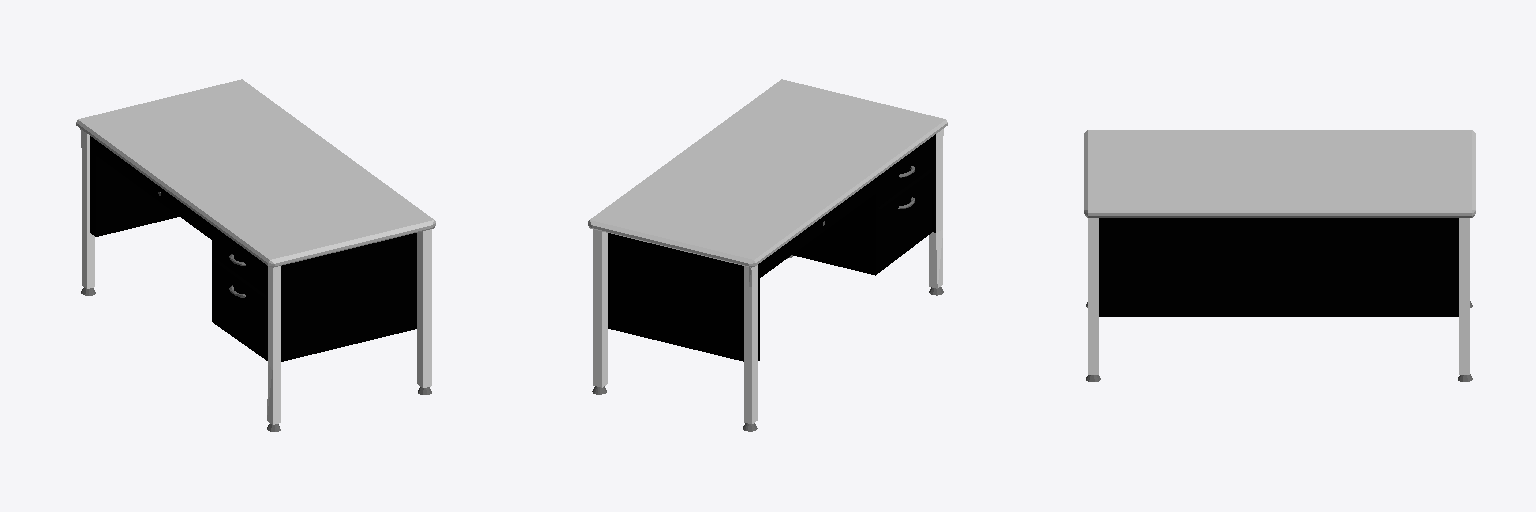
File: simple-school-desk.obj
The picture shows the model from 3 angles: view 1: azimuth 30°, elevation 25°; view 2: azimuth 150°, elevation 25°; view 3: azimuth 270°, elevation 25°; orthographic projection.
Visible parts, largest first — view 1: Cube; view 2: Cube; view 3: Cube.
Part boxes in pixels (bbox=[...]): Cube: bbox=[76, 79, 435, 431]; Cube: bbox=[588, 79, 947, 431]; Cube: bbox=[1084, 130, 1475, 381].
Size of the model in its own units: 2.21 by 2.18 by 4.48.